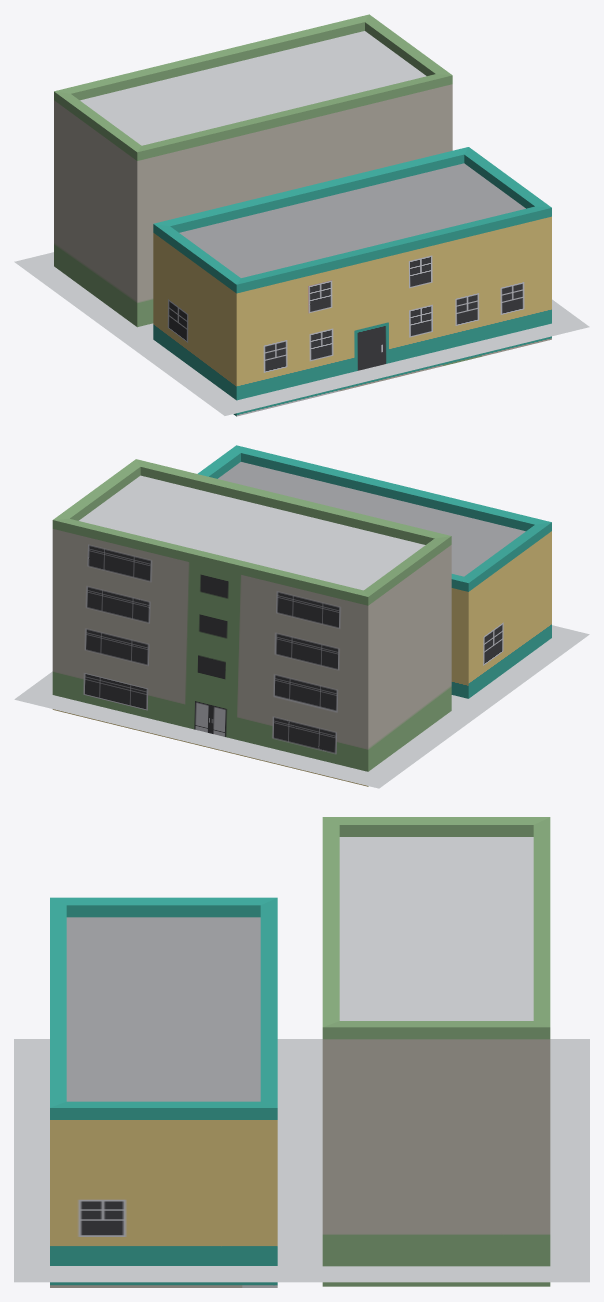
The model's file is 2immeubles_3.glb.
3 renders of one model, top to bottom at view 1: azimuth 30°, elevation 25°; view 2: azimuth 150°, elevation 25°; view 3: azimuth 270°, elevation 25°, orthographic. The views are drawn at different scales.
Visible parts, largest first — view 1: coucou; view 2: coucou; view 3: coucou.
Part boxes in pixels (x1=…): coucou: x1=14, y1=14, x2=589, y2=416; coucou: x1=14, y1=445, x2=589, y2=788; coucou: x1=14, y1=817, x2=589, y2=1287.
Bounding box in the file's own units: 15 × 7.5 × 15.
1 material, 1 textured.
